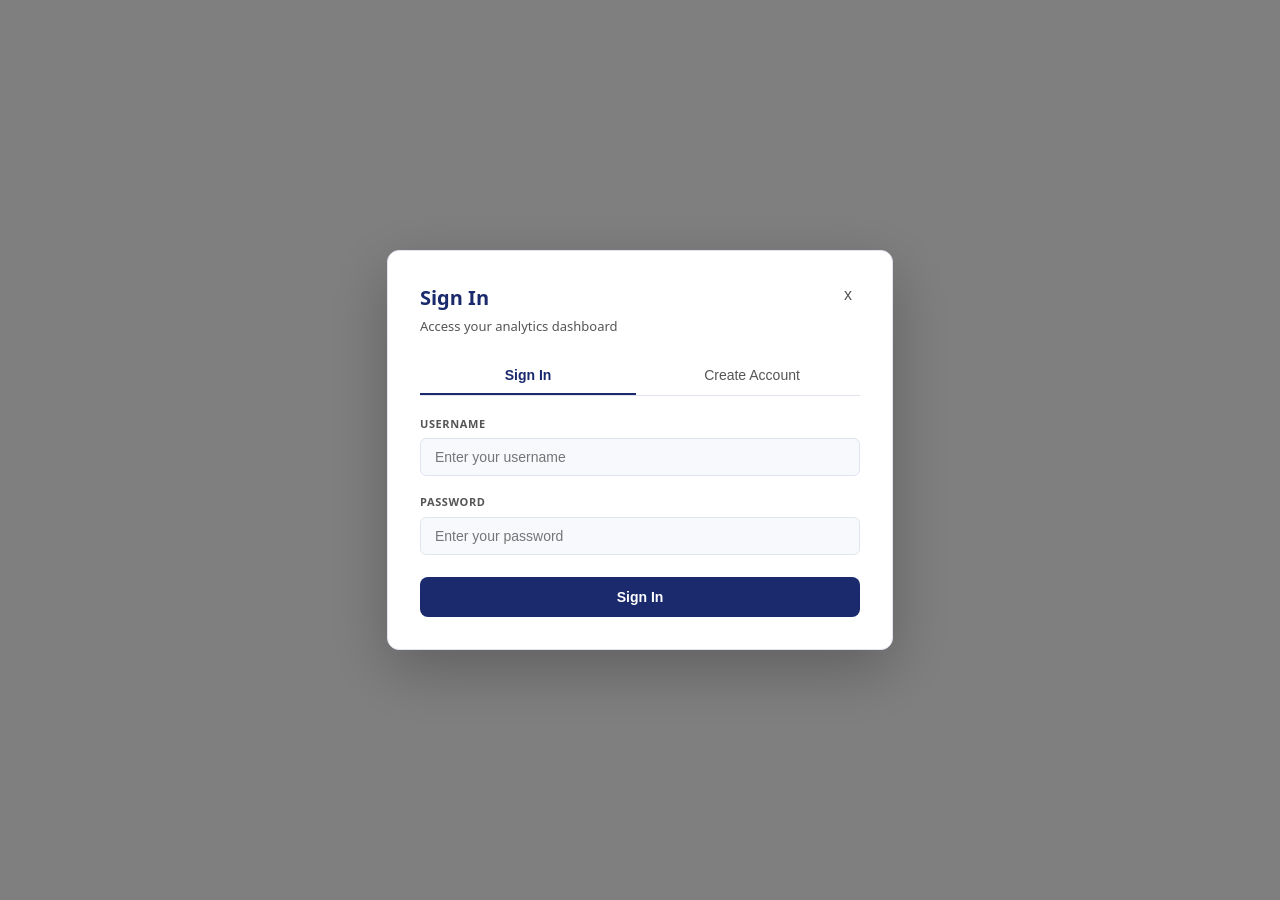
Scenario: LoginModel › shows an error when trying to sign in with an empty username
The width and height of the screenshot is (1280, 900).
// Click submit button
Click the 2nd button "Sign In".
click(640, 597)  # box [420, 577, 860, 617]
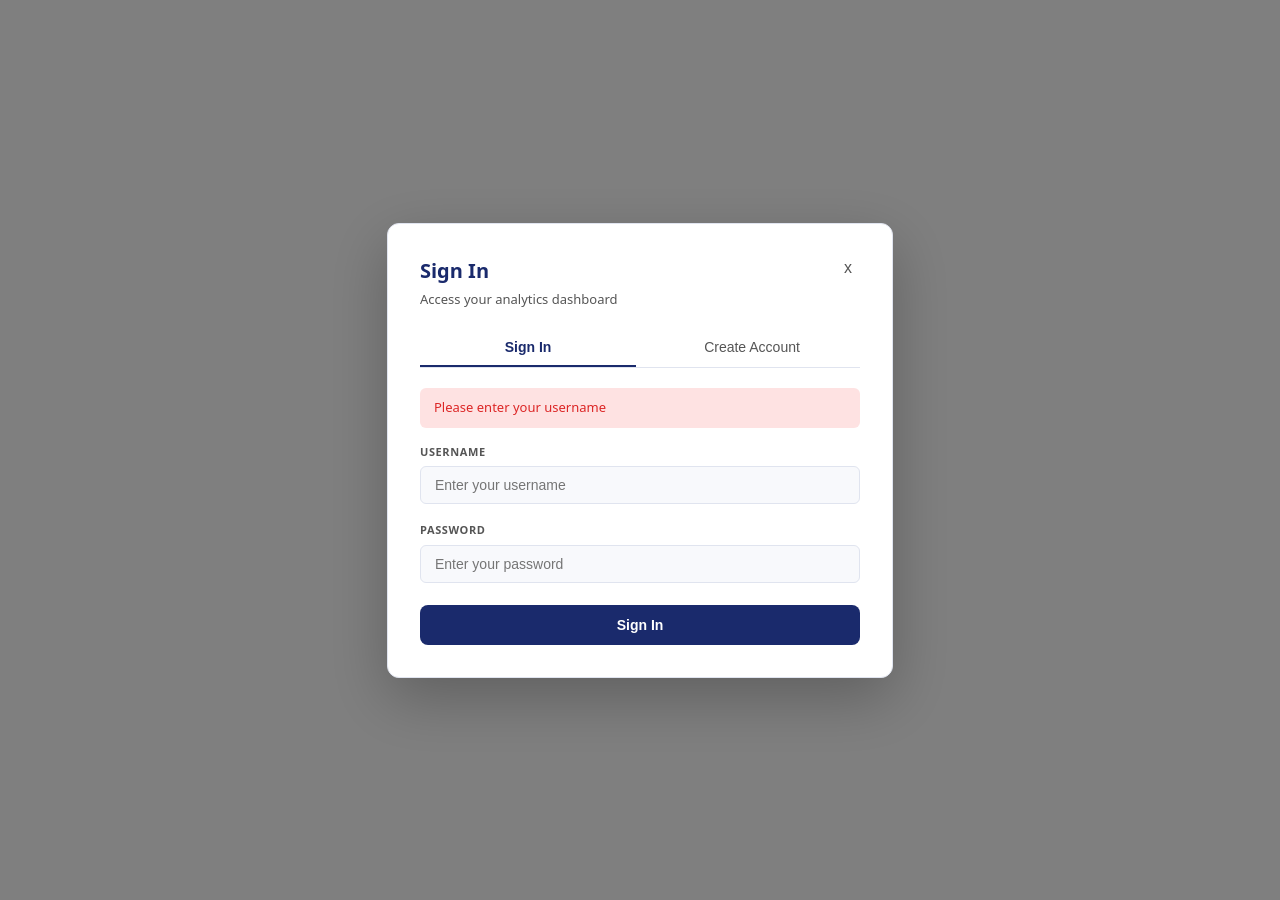
Now the text "Please enter your username" is shown, box [420, 388, 860, 428]
